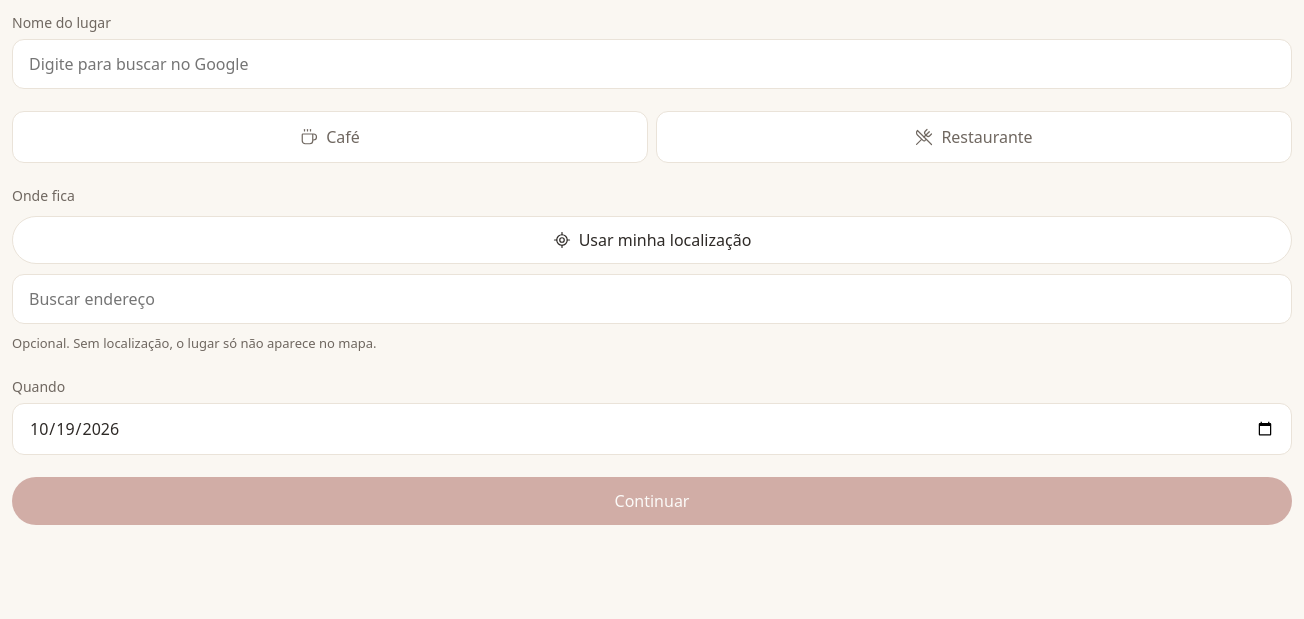
Test: escolher uma sugestão do Google preenche o lugar
The image size is (1304, 619).
Type "café lu" into the field labelled "Nome do lugar" at (652, 64), box [12,39,1292,89]
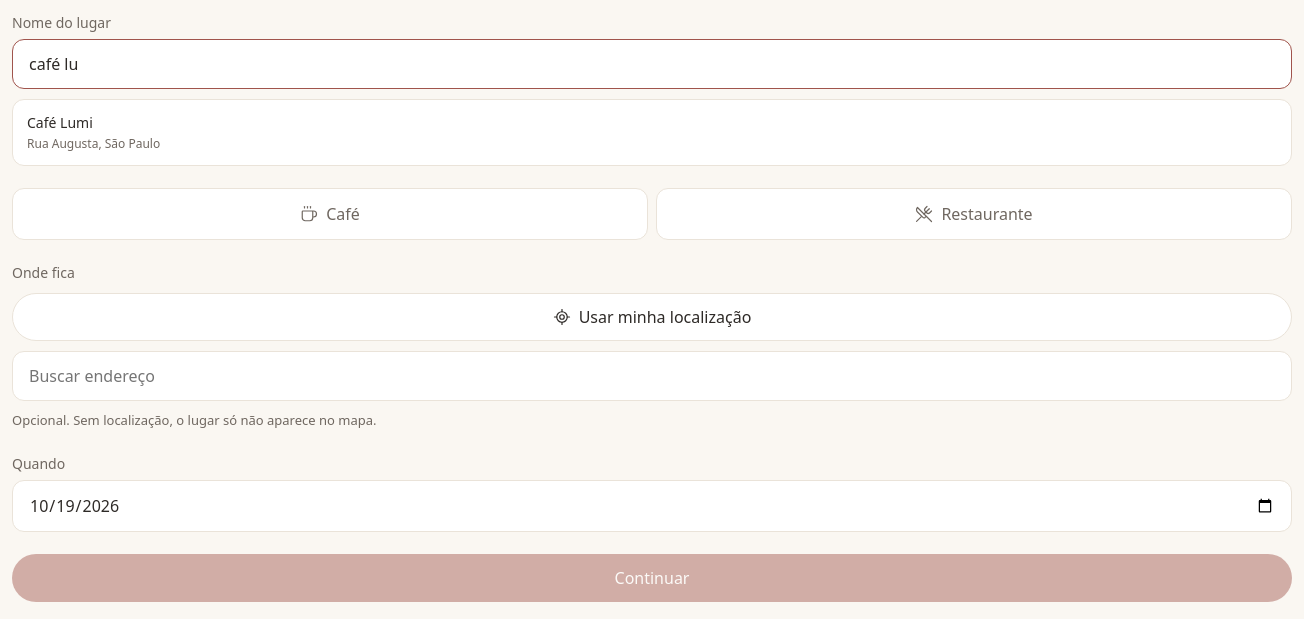
Click the button "Café Lumi Rua Augusta, São Paulo" at (60, 122), box [13,100,1291,165]
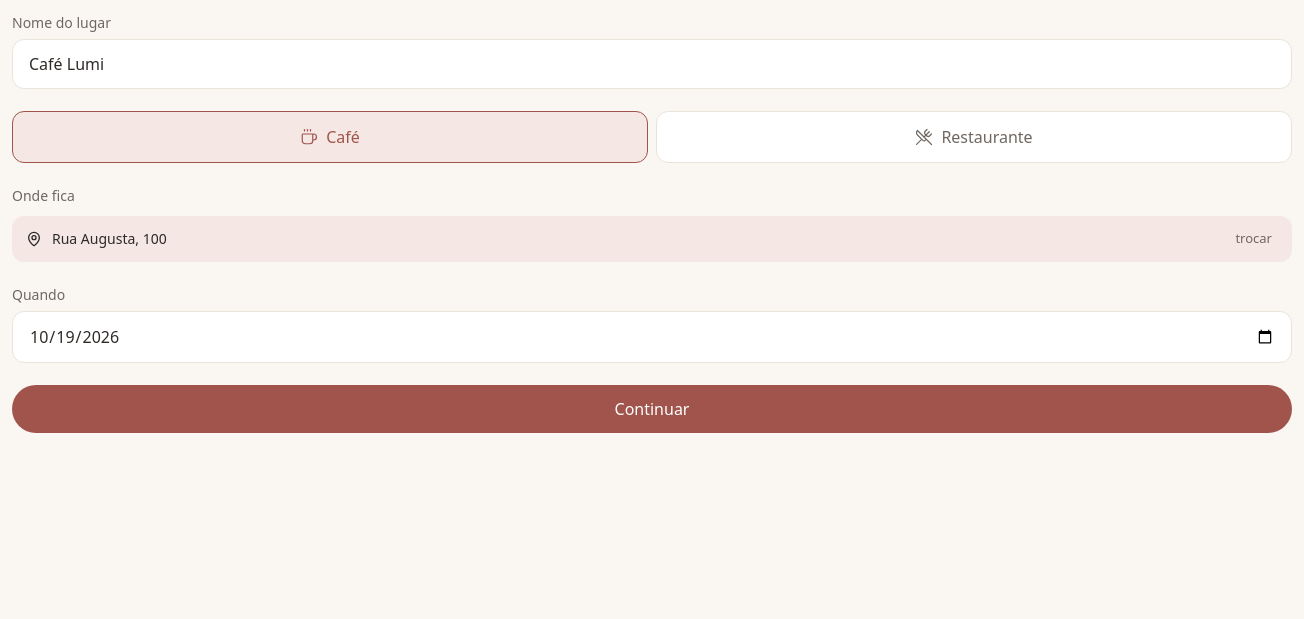
Check: the text "Rua Augusta, 100" is shown, box [52,229,167,248]
Check: the field labelled "Nome do lugar" holds "Café Lumi", box [12,39,1292,89]
